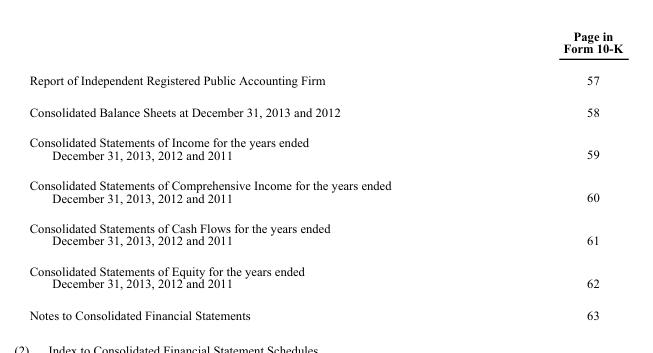table: (28, 28, 622, 321)
table column: (28, 28, 476, 321), (476, 28, 622, 321)
table column header: (28, 28, 622, 63)
table row: (28, 126, 622, 169), (28, 169, 622, 212), (28, 212, 622, 255), (28, 255, 622, 298), (28, 28, 622, 63), (28, 63, 622, 95), (28, 95, 622, 126), (28, 298, 622, 321)
